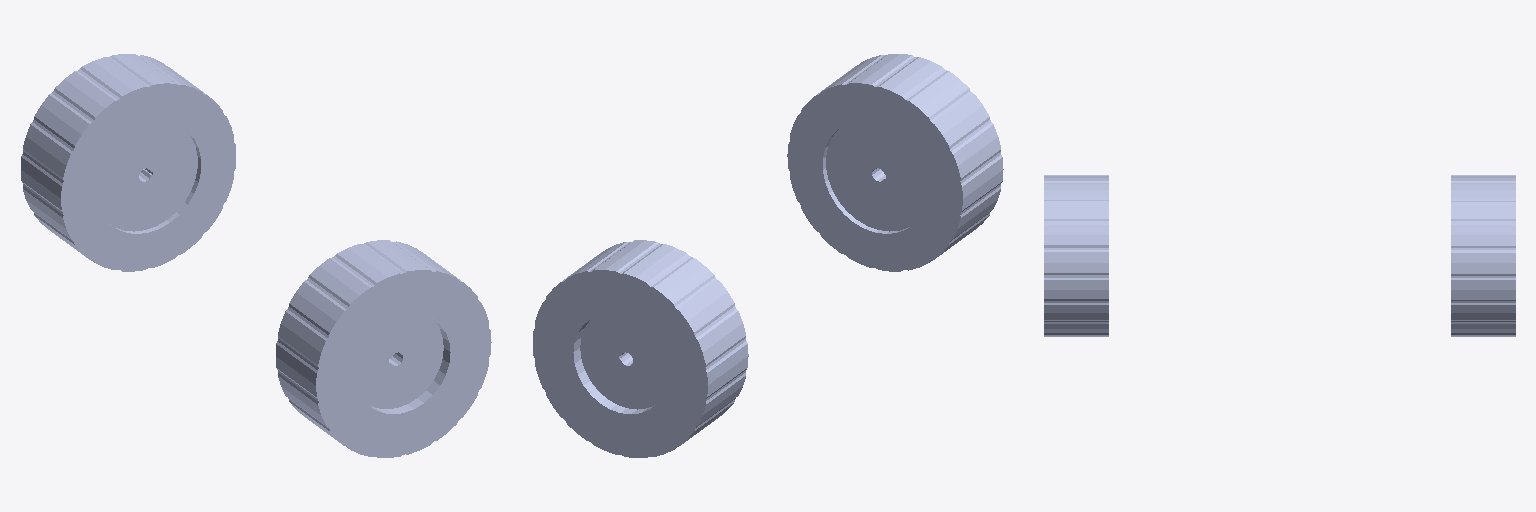
The robot description file, URDF, robot "test5.sldasm":
<?xml version="1.0" encoding="utf-8"?>
<!-- This URDF was automatically created by SolidWorks to URDF Exporter! Originally created by [author] ([email redacted]) 
     Commit Version: 1.6.0-4-g7f85cfe  Build Version: 1.6.7995.38578
     For more information, please see http://wiki.ros.org/sw_urdf_exporter -->
<robot
  name="test5.sldasm">
  <link
    name="base_link">
    <inertial>
      <origin
        xyz="0.00146878796766266 0.0100094141131085 0.0605146963622026"
        rpy="0 0 0" />
      <mass
        value="5.45188733876874" />
      <inertia
        ixx="0.0197246710172555"
        ixy="-1.04838305798838E-08"
        ixz="-0.000451929730195363"
        iyy="0.0223209650406088"
        iyz="-1.35072701798501E-06"
        izz="0.0349798794143071" />
    </inertial>
    <visual>
      <origin
        xyz="0 0 0"
        rpy="0 0 0" />
      <geometry>
        <mesh
          filename="package://test5.sldasm/meshes/base_link.STL" />
      </geometry>
      <material
        name="">
        <color
          rgba="0.772549019607843 0.752941176470588 0.733333333333333 1" />
      </material>
    </visual>
    <collision>
      <origin
        xyz="0 0 0"
        rpy="0 0 0" />
      <geometry>
        <mesh
          filename="package://test5.sldasm/meshes/base_link.STL" />
      </geometry>
    </collision>
  </link>
  <link
    name="trai_link">
    <inertial>
      <origin
        xyz="-8.88180099467561E-07 -8.32667268468867E-17 -0.0203827214868579"
        rpy="0 0 0" />
      <mass
        value="0.968975774829784" />
      <inertia
        ixx="0.00170115560343656"
        ixy="-1.8909673343801E-18"
        ixz="-1.82218282057684E-09"
        iyy="0.00170115056996547"
        iyz="4.80534480340535E-18"
        izz="0.00288276759907122" />
    </inertial>
    <visual>
      <origin
        xyz="0 0 0"
        rpy="0 0 0" />
      <geometry>
        <mesh
          filename="package://test5.sldasm/meshes/trai_link.STL" />
      </geometry>
      <material
        name="">
        <color
          rgba="0.792156862745098 0.819607843137255 0.933333333333333 1" />
      </material>
    </visual>
    <collision>
      <origin
        xyz="0 0 0"
        rpy="0 0 0" />
      <geometry>
        <mesh
          filename="package://test5.sldasm/meshes/trai_link.STL" />
      </geometry>
    </collision>
  </link>
  <joint
    name="joint_trai"
    type="continuous">
    <origin
      xyz="0.00149042687503501 0.219109836058929 0.0202499999999946"
      rpy="-1.5707963267949 0 0" />
    <parent
      link="base_link" />
    <child
      link="trai_link" />
    <axis
      xyz="0 0 1" />
  </joint>
  <link
    name="phai_link">
    <inertial>
      <origin
        xyz="0.000131413454829796 -8.71525074330748E-15 0.0203827214868589"
        rpy="0 0 0" />
      <mass
        value="0.968975774829785" />
      <inertia
        ixx="0.00170115560343656"
        ixy="2.00760235295417E-18"
        ixz="-1.82218282862992E-09"
        iyy="0.00170115056996547"
        iyz="-1.27465295418404E-19"
        izz="0.00288276759907123" />
    </inertial>
    <visual>
      <origin
        xyz="0 0 0"
        rpy="0 0 0" />
      <geometry>
        <mesh
          filename="package://test5.sldasm/meshes/phai_link.STL" />
      </geometry>
      <material
        name="">
        <color
          rgba="0.792156862745098 0.819607843137255 0.933333333333333 1" />
      </material>
    </visual>
    <collision>
      <origin
        xyz="0 0 0"
        rpy="0 0 0" />
      <geometry>
        <mesh
          filename="package://test5.sldasm/meshes/phai_link.STL" />
      </geometry>
    </collision>
  </link>
  <joint
    name="joint_phai"
    type="continuous">
    <origin
      xyz="0.00149042687503791 -0.198363363941079 0.020249999999995"
      rpy="-1.5707963267949 0 0" />
    <parent
      link="base_link" />
    <child
      link="phai_link" />
    <axis
      xyz="0 0 -1" />
  </joint>
</robot>

--- Facts derived from the render (not from the file) ---
Views: 3 orthographic renders of the robot side by side, from view 1: azimuth 30°, elevation 25°; view 2: azimuth 150°, elevation 25°; view 3: azimuth 270°, elevation 25°.
Model test5.sldasm with 3 links and 2 joints (2 continuous), rooted at base_link, posed every joint at zero.
Links seen in each view (by area): view 1: phai_link, trai_link; view 2: trai_link, phai_link; view 3: trai_link, phai_link.
Boxes of the visible links, bbox=[...] form: phai_link: bbox=[276, 240, 491, 457]; trai_link: bbox=[21, 54, 235, 271]; trai_link: bbox=[533, 240, 748, 457]; phai_link: bbox=[787, 54, 1003, 271]; trai_link: bbox=[1451, 175, 1515, 336]; phai_link: bbox=[1044, 175, 1108, 336].
Bounding box of the posed robot: 0.1501 × 0.4375 × 0.1499 m (x, y, z).
Meshes: 3 distinct files referenced, 2 mesh visuals loaded (2 binary STL); not drawn: 1 (reference not matched to a file when rendering).
